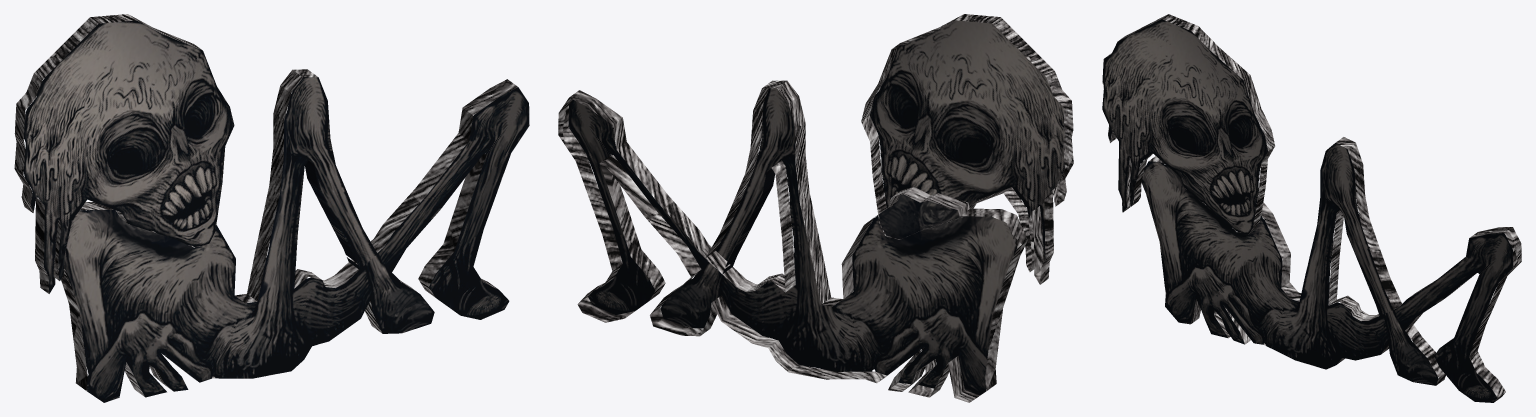
Rendered from alien.fbx.
3 renders of one model, left to right at view 1: azimuth 30°, elevation 25°; view 2: azimuth 150°, elevation 25°; view 3: azimuth 330°, elevation 25°, orthographic. The views are drawn at different scales.
Visible parts, largest first — view 1: pCube1, pCube2; view 2: pCube1, pCube2; view 3: pCube1, pCube2.
Boxes of the visible parts, x1,y1,x2,y2 form: pCube1: [59, 69, 529, 402]; pCube2: [14, 14, 234, 293]; pCube1: [558, 80, 1027, 402]; pCube2: [861, 14, 1073, 284]; pCube1: [1141, 137, 1521, 402]; pCube2: [1102, 14, 1274, 234].
Size of the model in its own units: 7.3 by 5.46 by 0.469.
